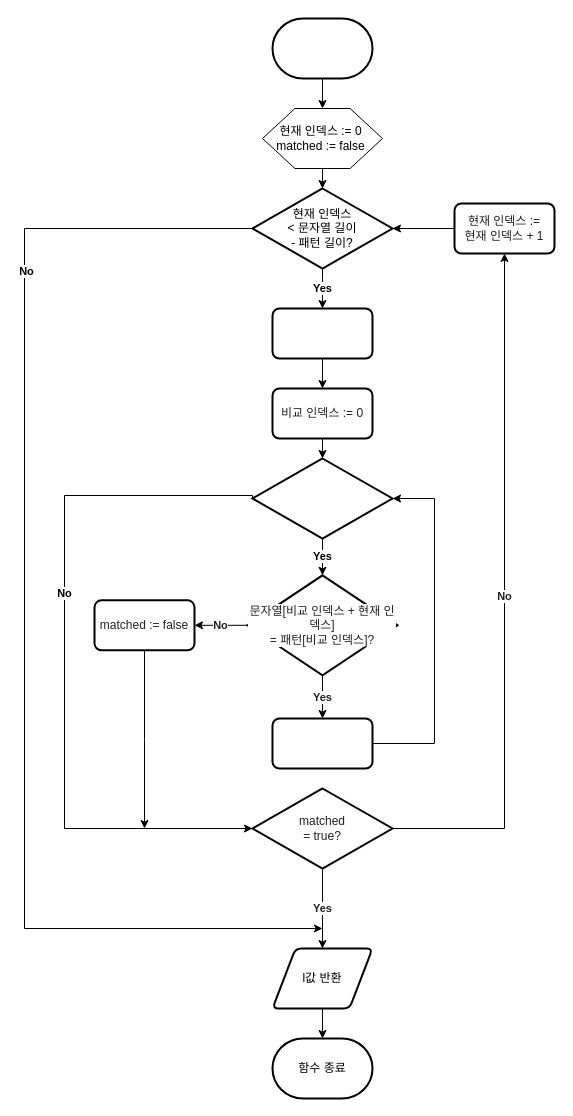
Image size: 573x1116. Some labels were removed from this diagram. Here are the shapes that lost their labels. From the top down, the centre of each, then its label:
point (322, 48): 함수 진입
point (322, 333): matched := true
point (322, 498): 비교 인덱스 < 패턴 길이?
point (322, 743): 비교 인덱스 := 비교 인덱스 + 1
